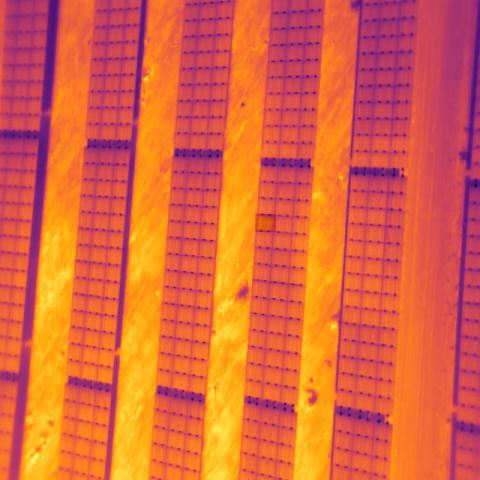fault: (255, 214, 276, 232)
